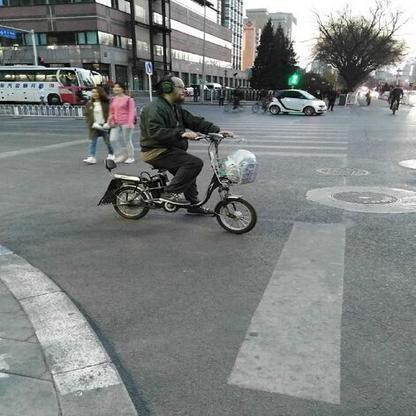target: (99, 74, 260, 236)
